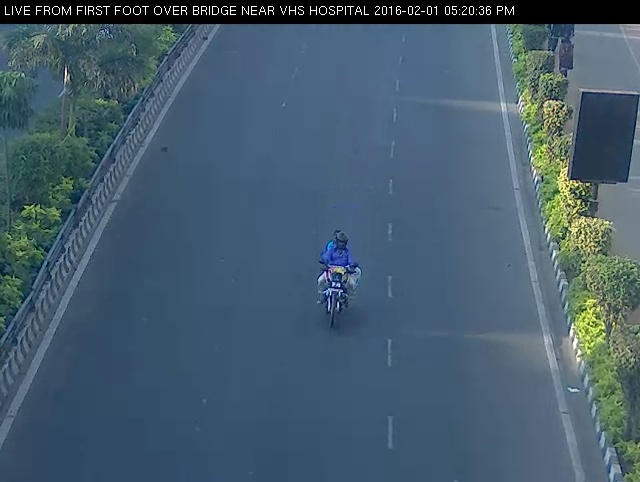Person: (306, 219, 368, 337)
